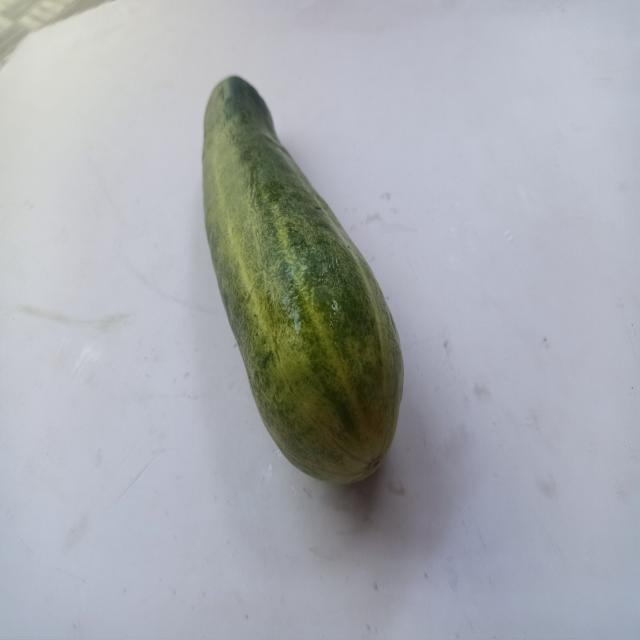Cucumber: (186, 57, 450, 537)
